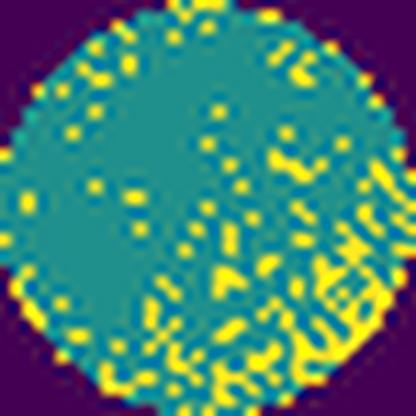Edge-Loc: (289, 215, 415, 388)
